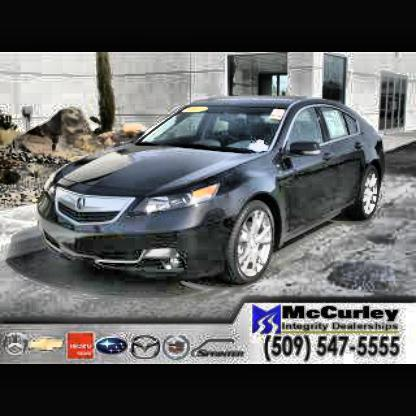Acura TL Sedan 2012: (38, 97, 387, 289)
